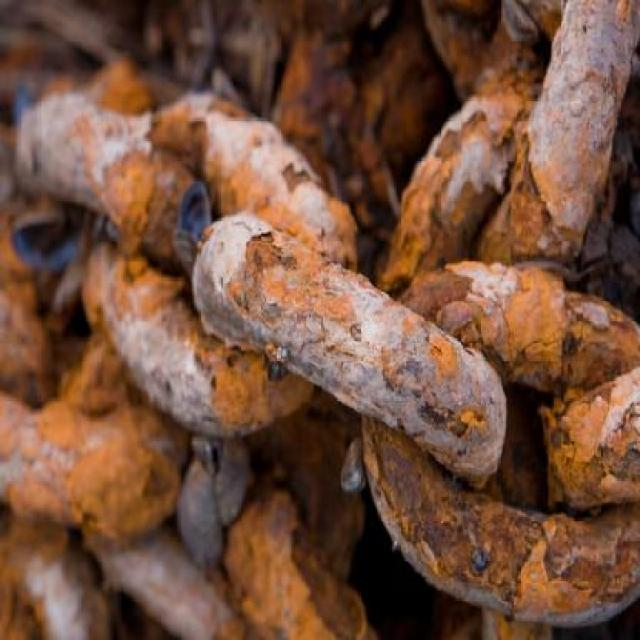corrosion: (5, 3, 632, 640)
